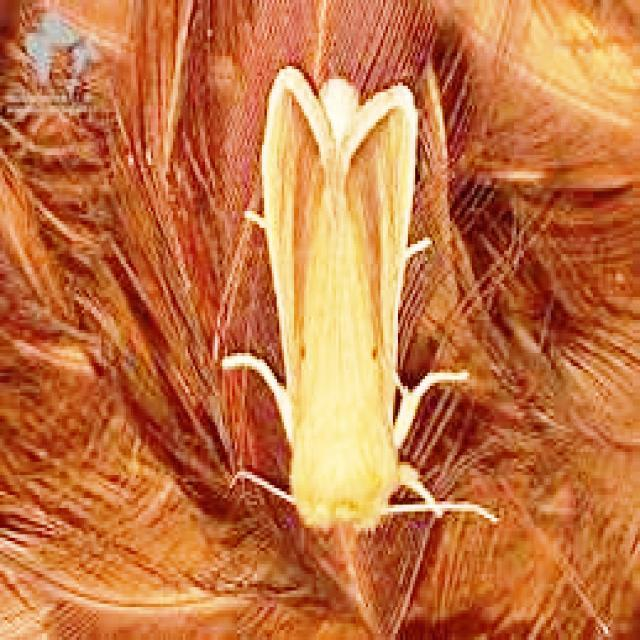stem-borer: (242, 61, 430, 541)
